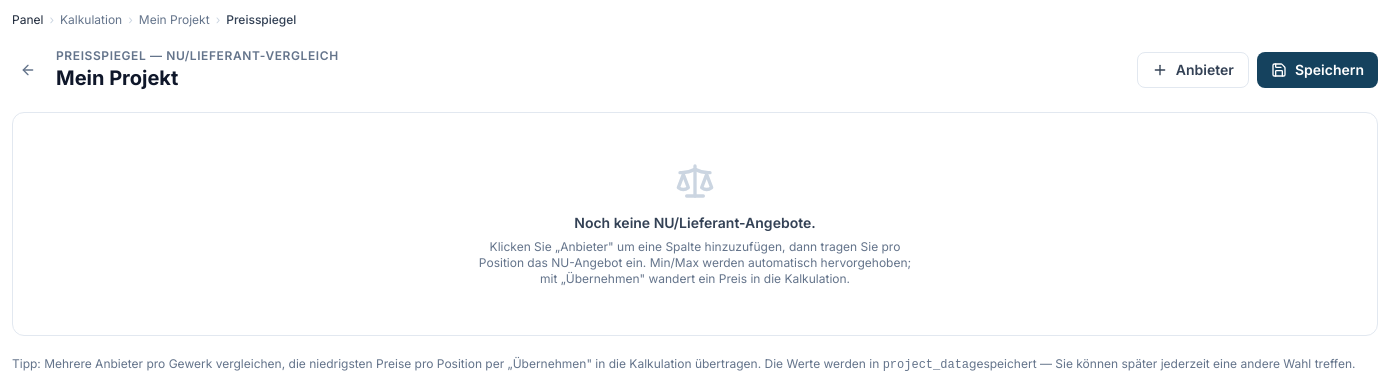
Test: ProjectPreisspiegel › clicking "+Anbieter" inserts a new source column
Expected: the text "Noch keine NU/Lieferant-Angebote." is shown, left=574, top=214, right=816, bottom=231
Click the button "Anbieter": (1193, 70) left=1137, top=52, right=1249, bottom=88
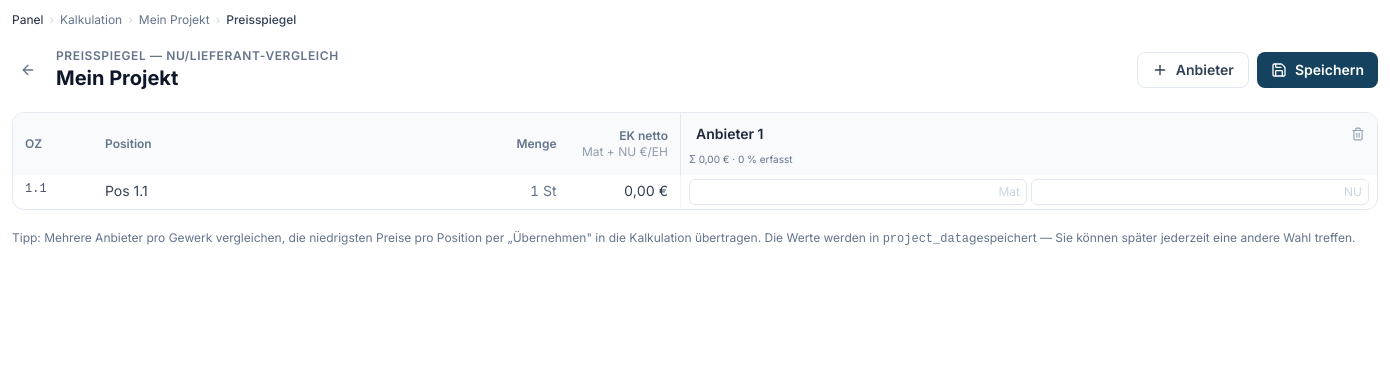
Result: the field showing "Anbieter 1" is shown at left=689, top=121, right=1343, bottom=147
